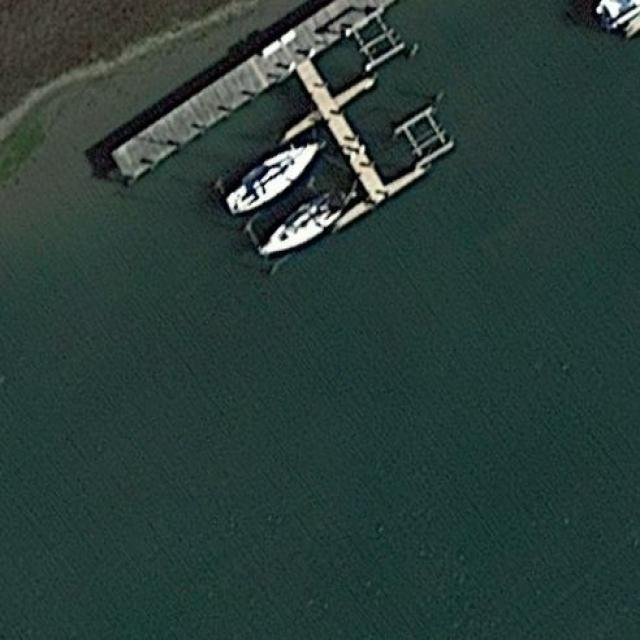boat: (256, 179, 361, 269), (220, 138, 320, 217)
